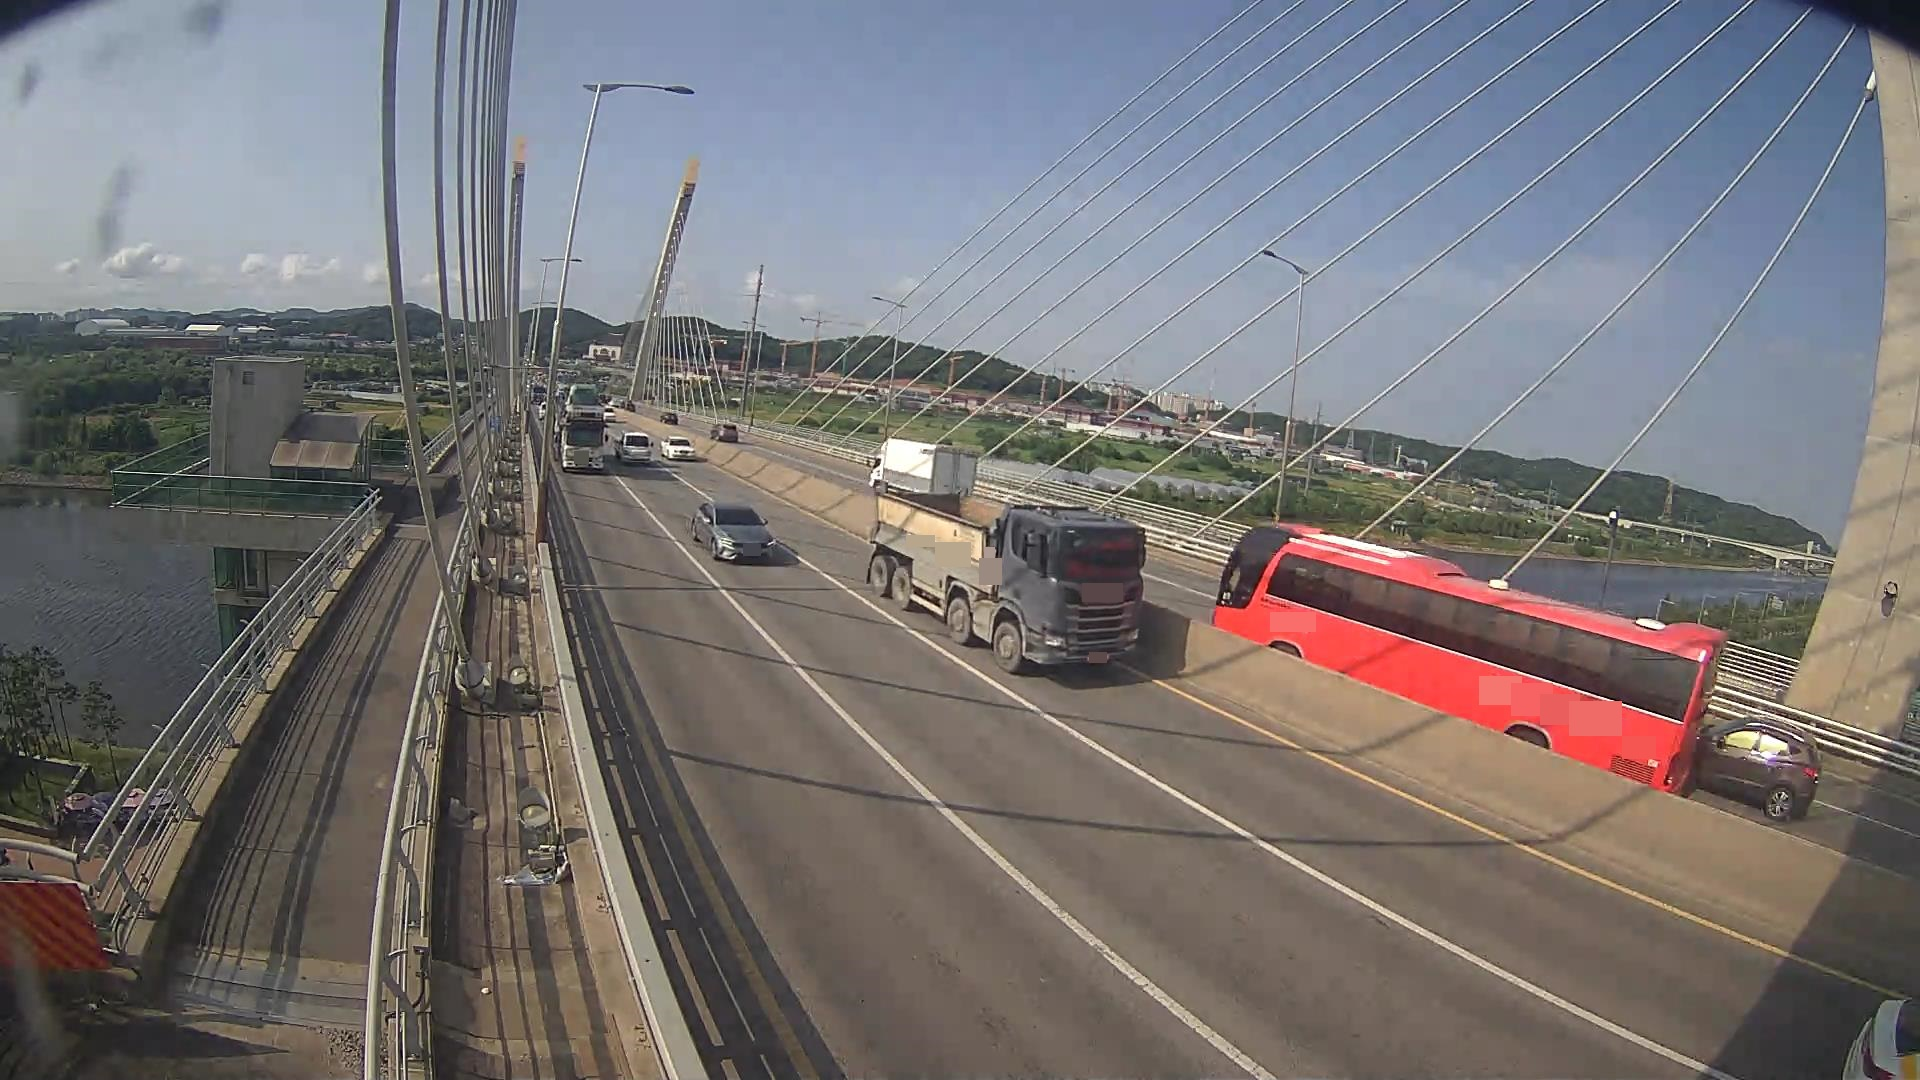정상차량: (866, 481, 1146, 675)
